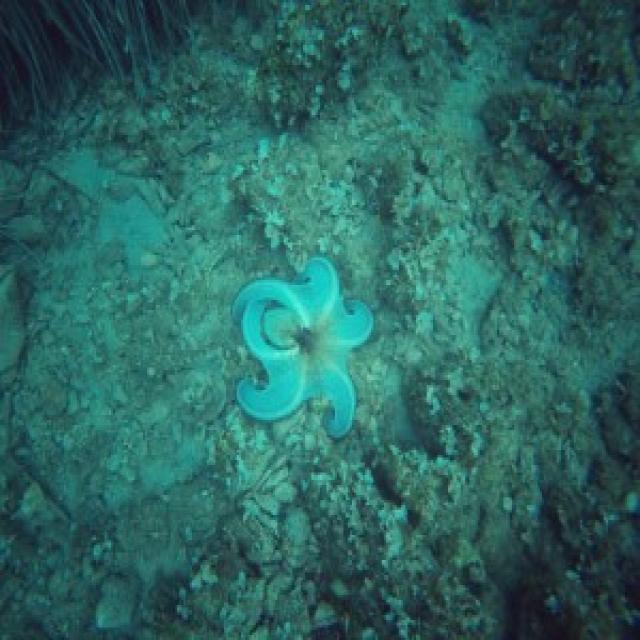Octo: (221, 261, 380, 431)
